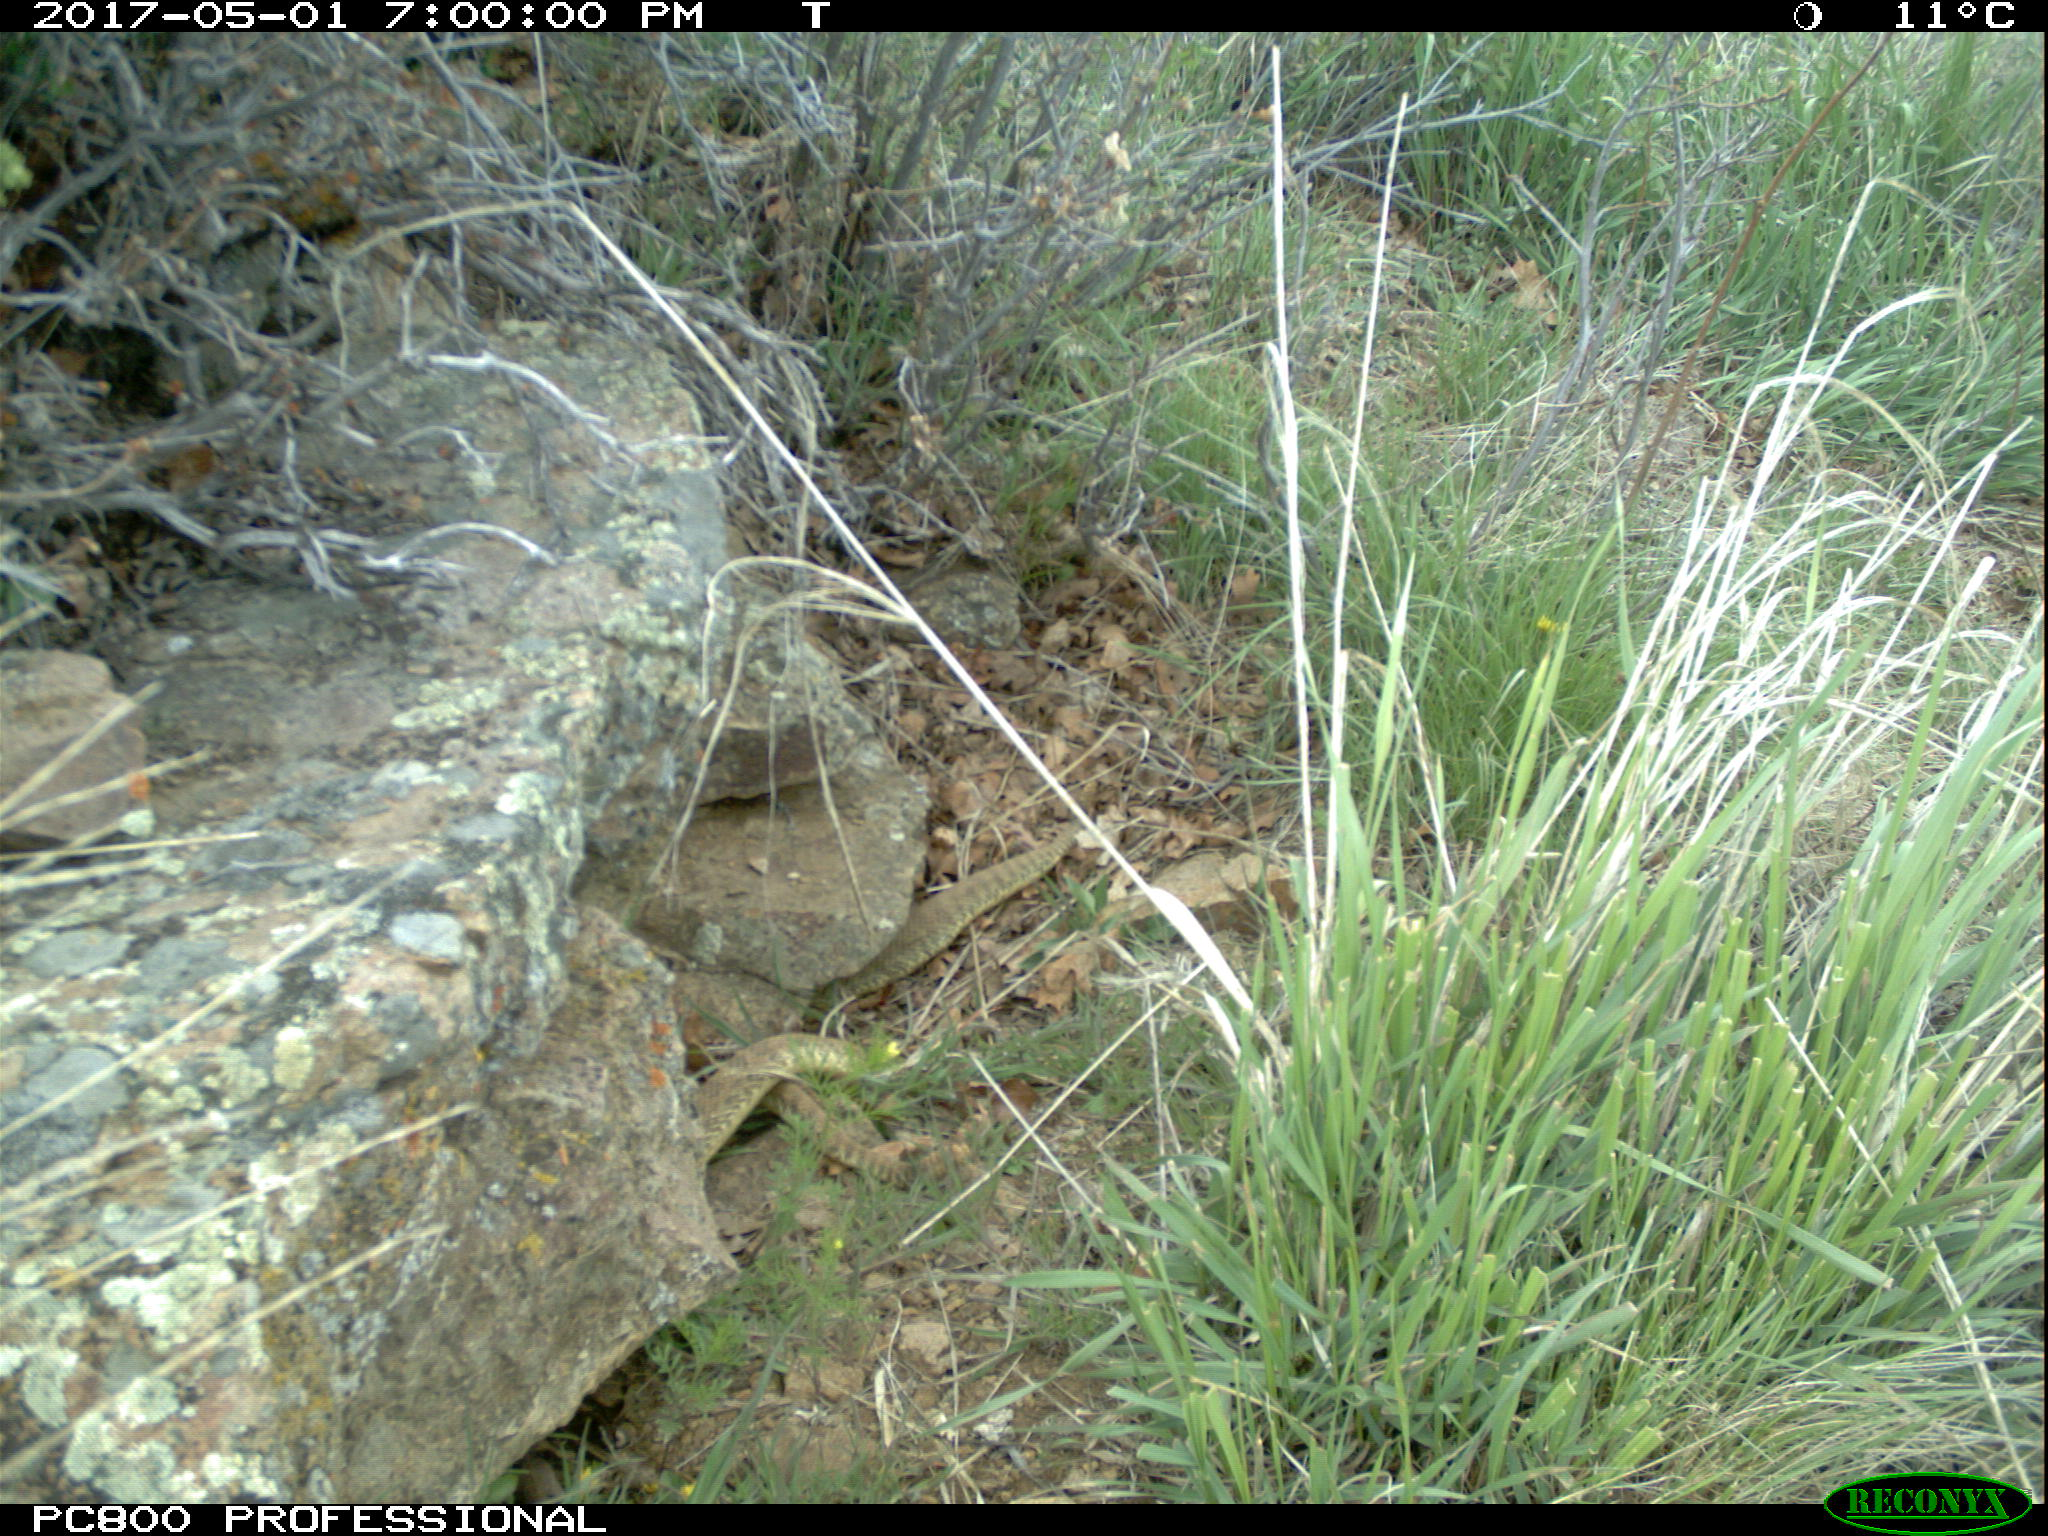snake: (816, 821, 1100, 995), (681, 1008, 922, 1187)
